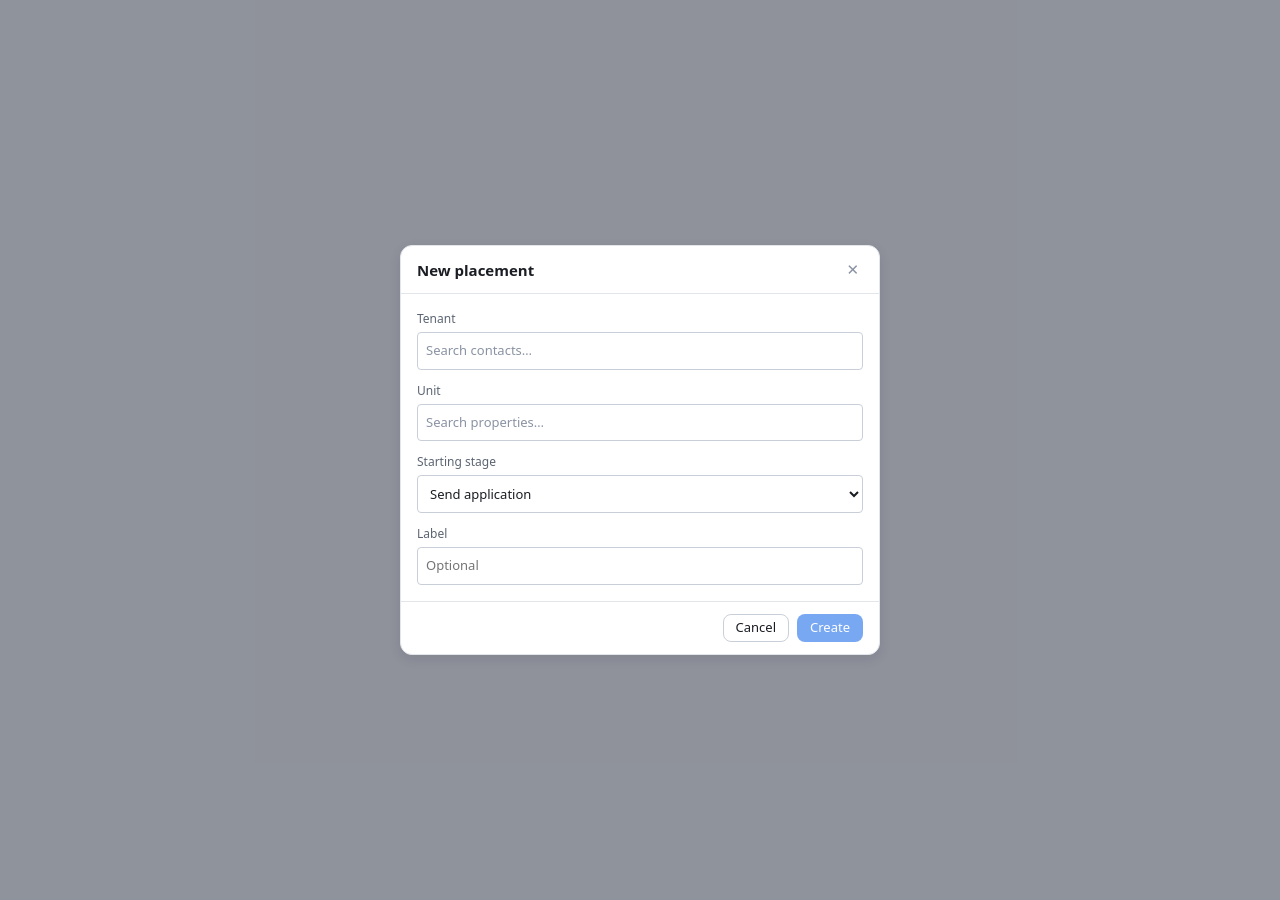
Test: PlacementCreateForm › unit picker: typing + clicking an option (address) selects that unit
Type "Sycamore" into the dropdown named "Unit".
click(640, 423); type("Sycamore")  # box [417,404,863,441]
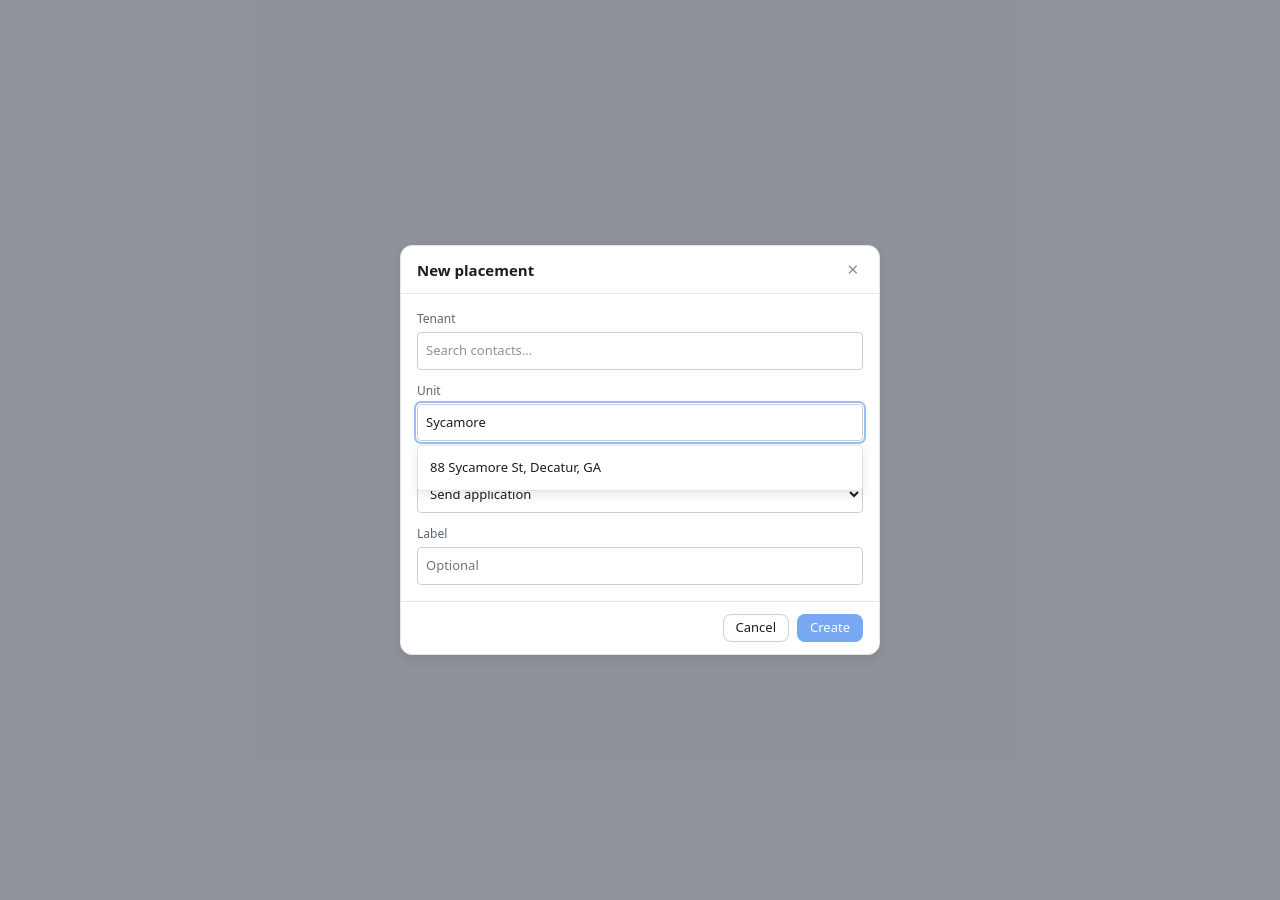
Click the option "88 Sycamore St, Decatur, GA".
click(516, 467)  # box [430,458,601,476]
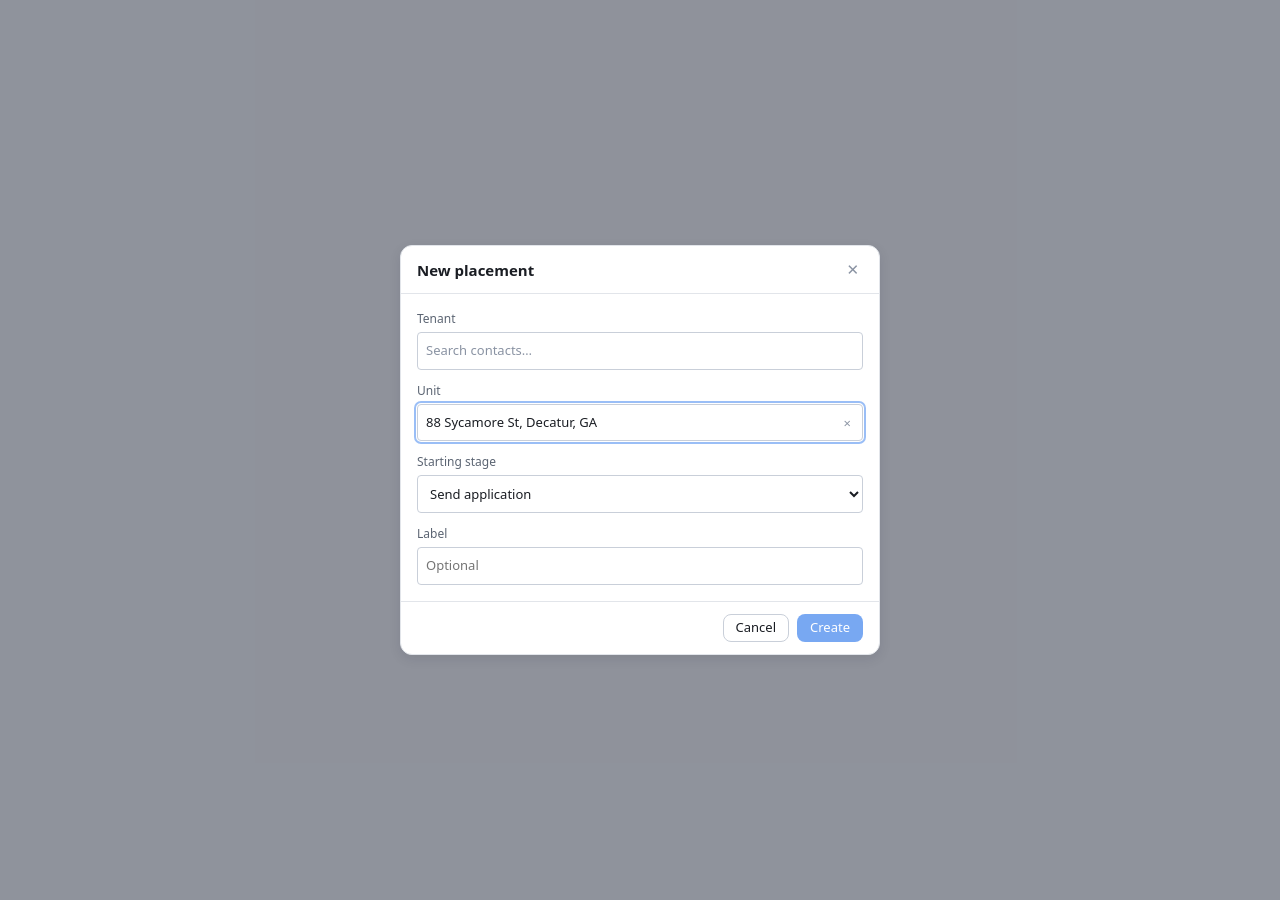
Expected: the dropdown named "Unit" holds "88 Sycamore St, Decatur, GA", [417,404,863,441]
